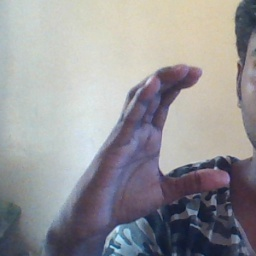C: (116, 50, 237, 232)
